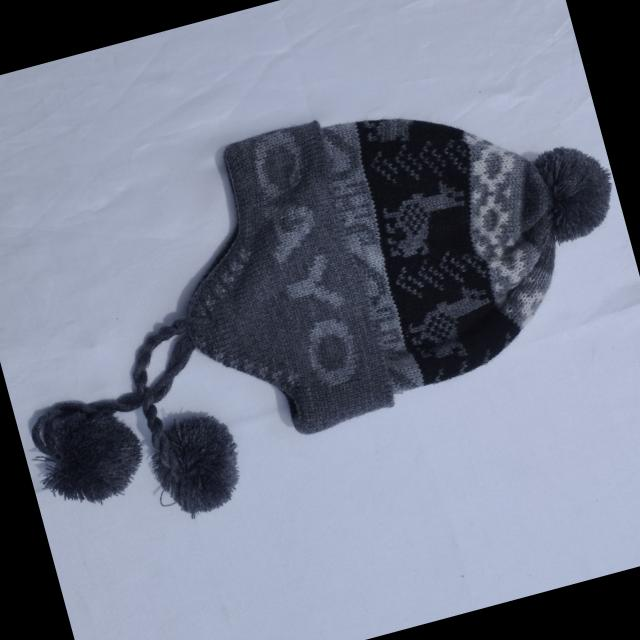Gorro: (0, 48, 640, 555)
